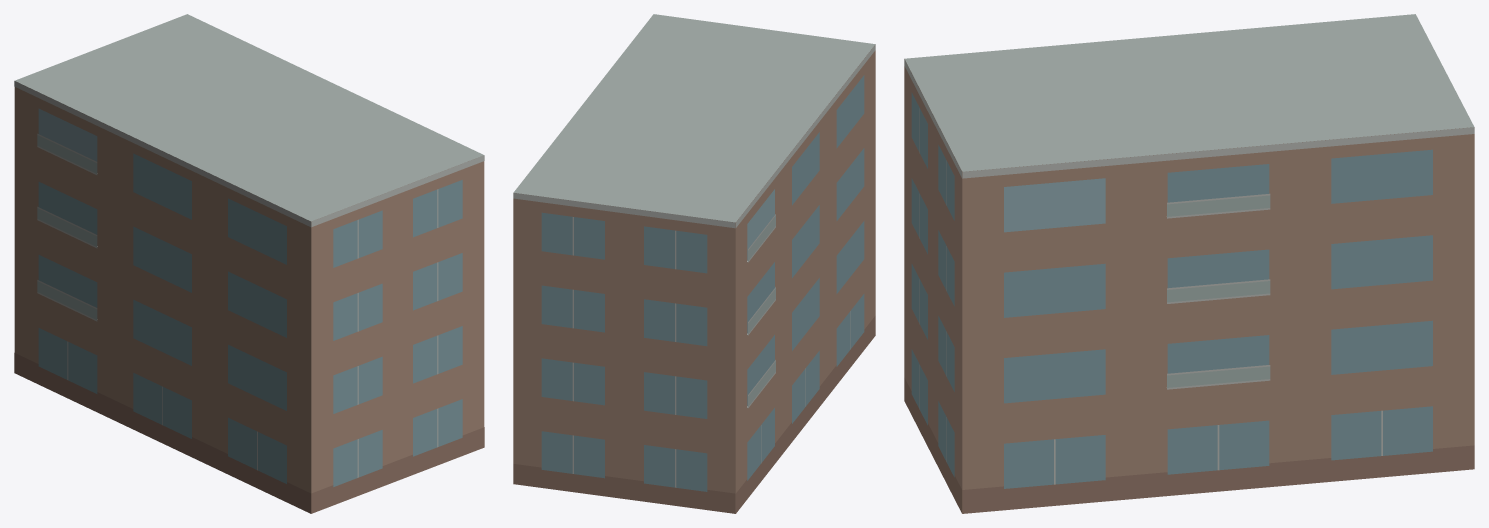
The model's file is survey-upis-32748723.glb.
The picture shows the model from 3 angles, left to right: view 1: azimuth 30°, elevation 25°; view 2: azimuth 150°, elevation 25°; view 3: azimuth 270°, elevation 25°; orthographic projection. The views are drawn at different scales.
Visible parts, largest first — view 1: survey-upis-32748723.tmp; view 2: survey-upis-32748723.tmp; view 3: survey-upis-32748723.tmp.
Part boxes in pixels (x1=…): survey-upis-32748723.tmp: x1=14, y1=14, x2=484, y2=513; survey-upis-32748723.tmp: x1=513, y1=14, x2=875, y2=513; survey-upis-32748723.tmp: x1=904, y1=14, x2=1474, y2=513.
Bounding box in the file's own units: 12.07 × 12.2 × 18.44.
